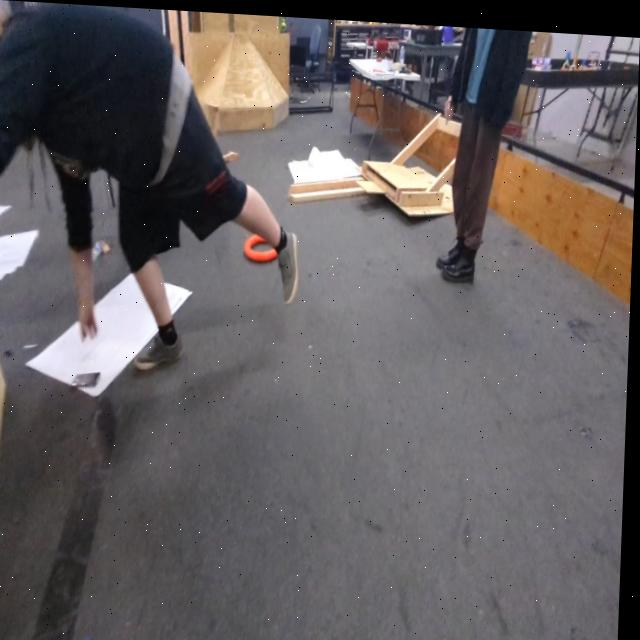note: (244, 227, 282, 260)
